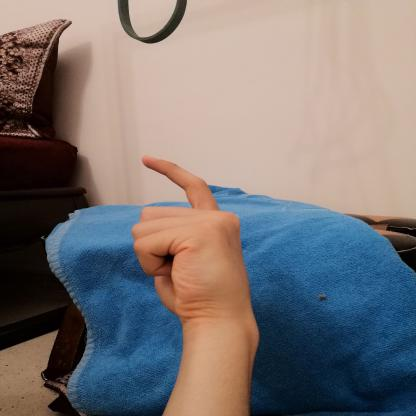RAA: (121, 148, 259, 325)
